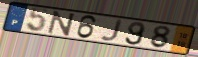5: (26, 7, 50, 34)
6: (75, 14, 97, 39)
8: (150, 25, 173, 49)
9: (123, 21, 147, 47)
J: (99, 19, 125, 43)
N: (47, 10, 77, 37)
